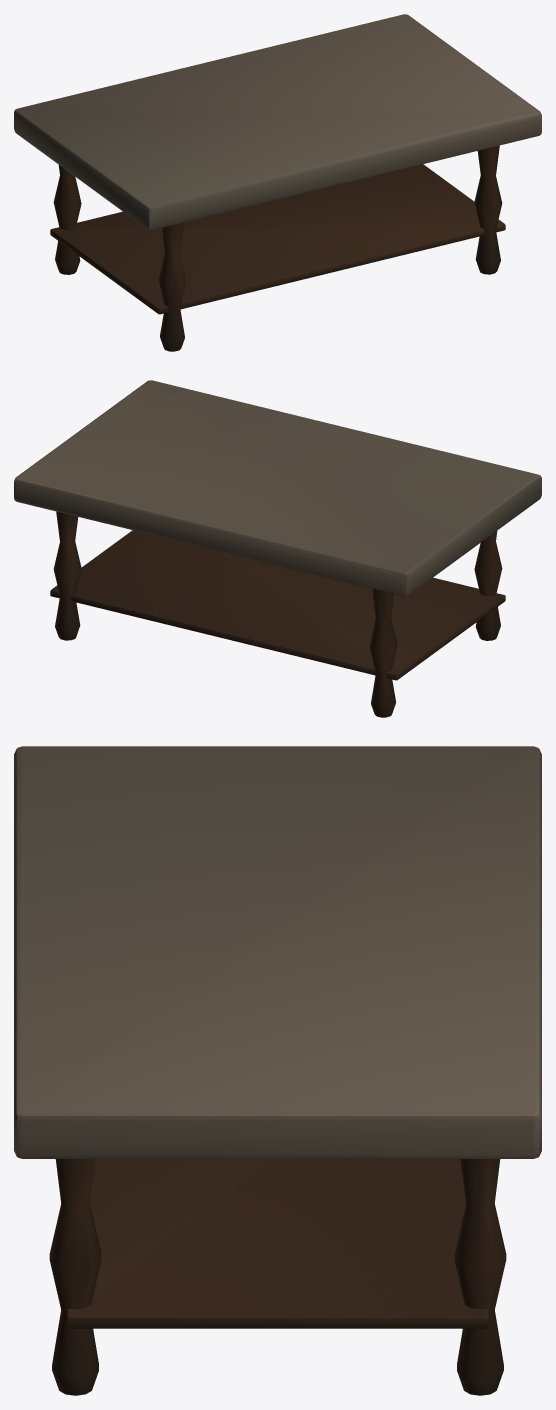
Rendered from CoffeeTable.glb.
The picture shows the model from 3 angles, top to bottom: view 1: azimuth 30°, elevation 25°; view 2: azimuth 150°, elevation 25°; view 3: azimuth 270°, elevation 25°; orthographic projection. The views are drawn at different scales.
Parts seen in each view (by area): view 1: CoffeeTable_wood_old, CoffeeTable_wood_dark; view 2: CoffeeTable_wood_old, CoffeeTable_wood_dark; view 3: CoffeeTable_wood_old, CoffeeTable_wood_dark.
Part boxes in pixels (left/top/right/bottom): CoffeeTable_wood_old: left=14, top=14, right=541, bottom=230; CoffeeTable_wood_dark: left=50, top=145, right=505, bottom=351; CoffeeTable_wood_old: left=14, top=380, right=541, bottom=596; CoffeeTable_wood_dark: left=50, top=511, right=505, bottom=717; CoffeeTable_wood_old: left=14, top=746, right=541, bottom=1158; CoffeeTable_wood_dark: left=49, top=1159, right=506, bottom=1395.
Size of the model in its own units: 5 by 1.95 by 3.
